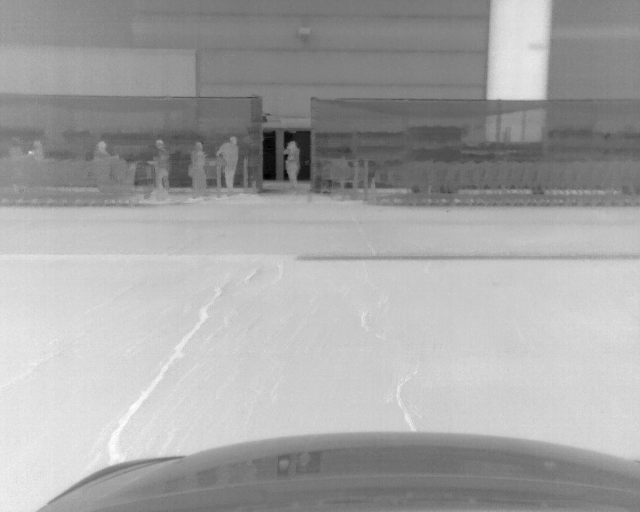people: (145, 139, 171, 200), (216, 136, 239, 197), (188, 141, 211, 198), (282, 141, 300, 189), (93, 141, 121, 160), (9, 137, 24, 156), (28, 140, 43, 157)
